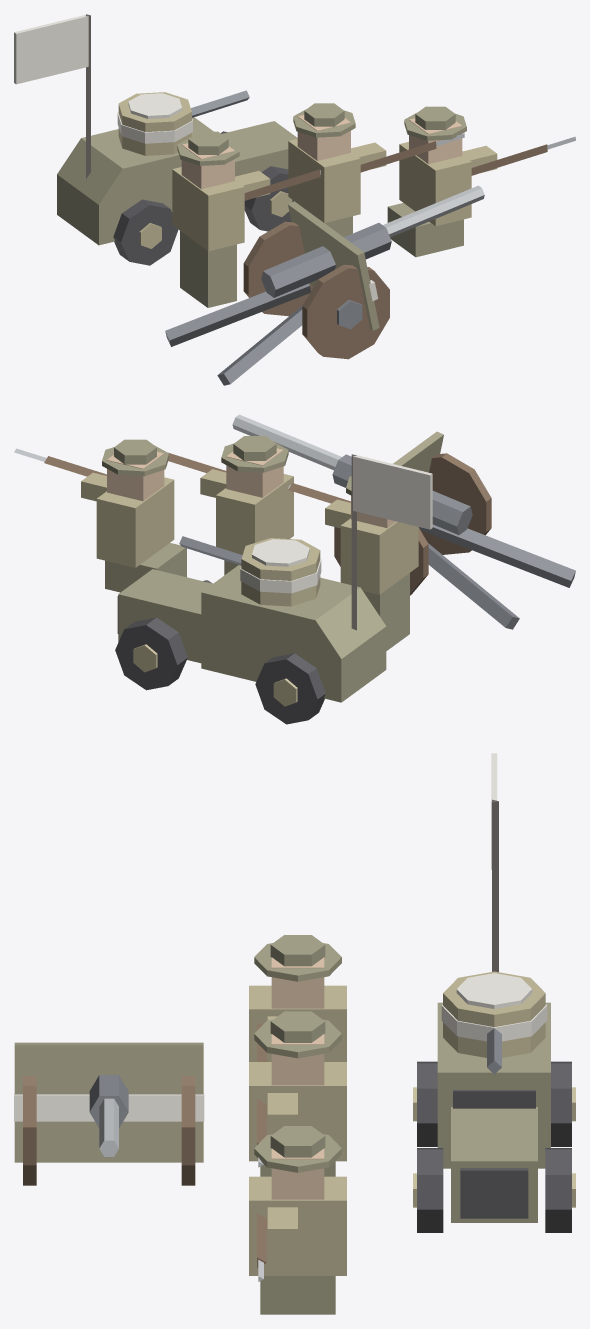
File: army.glb
3 views of the same model, one above another, from view 1: azimuth 30°, elevation 25°; view 2: azimuth 150°, elevation 25°; view 3: azimuth 270°, elevation 25° (orthographic). The views are drawn at different scales.
Visible parts, largest first — view 1: industrial_army; view 2: industrial_army; view 3: industrial_army.
Part boxes in pixels (box(x1,y1,x2,y2)): industrial_army: box(14, 14, 575, 385); industrial_army: box(14, 414, 575, 724); industrial_army: box(14, 753, 575, 1314).
Size of the model in its own units: 0.9995 by 0.482 by 0.7586.
